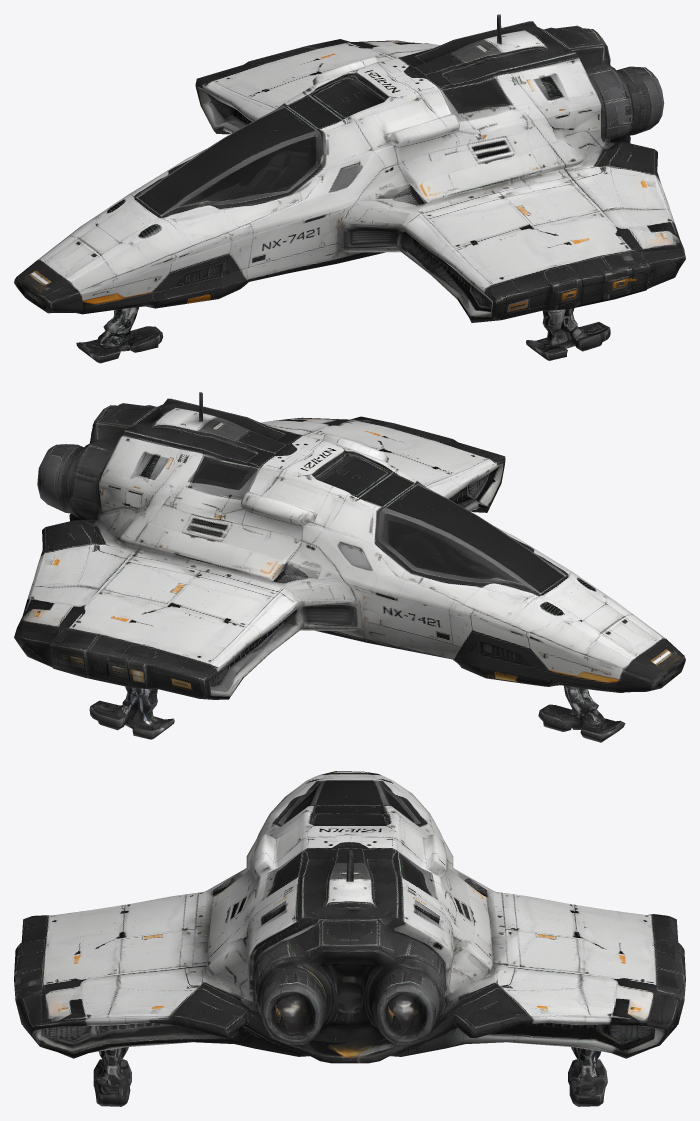
File: pathfinder_spaceship.fbx
3 renders of one model, top to bottom at view 1: azimuth 30°, elevation 25°; view 2: azimuth 150°, elevation 25°; view 3: azimuth 270°, elevation 25°, orthographic. The views are drawn at different scales.
Parts seen in each view (by area): view 1: Mesh_0; view 2: Mesh_0; view 3: Mesh_0.
Boxes of the visible parts, x1=… form: Mesh_0: x1=14, y1=14, x2=685, y2=363; Mesh_0: x1=14, y1=392, x2=685, y2=742; Mesh_0: x1=14, y1=771, x2=685, y2=1106.
Size of the model in its own units: 191 by 74.36 by 172.
1 material, 1 textured.
